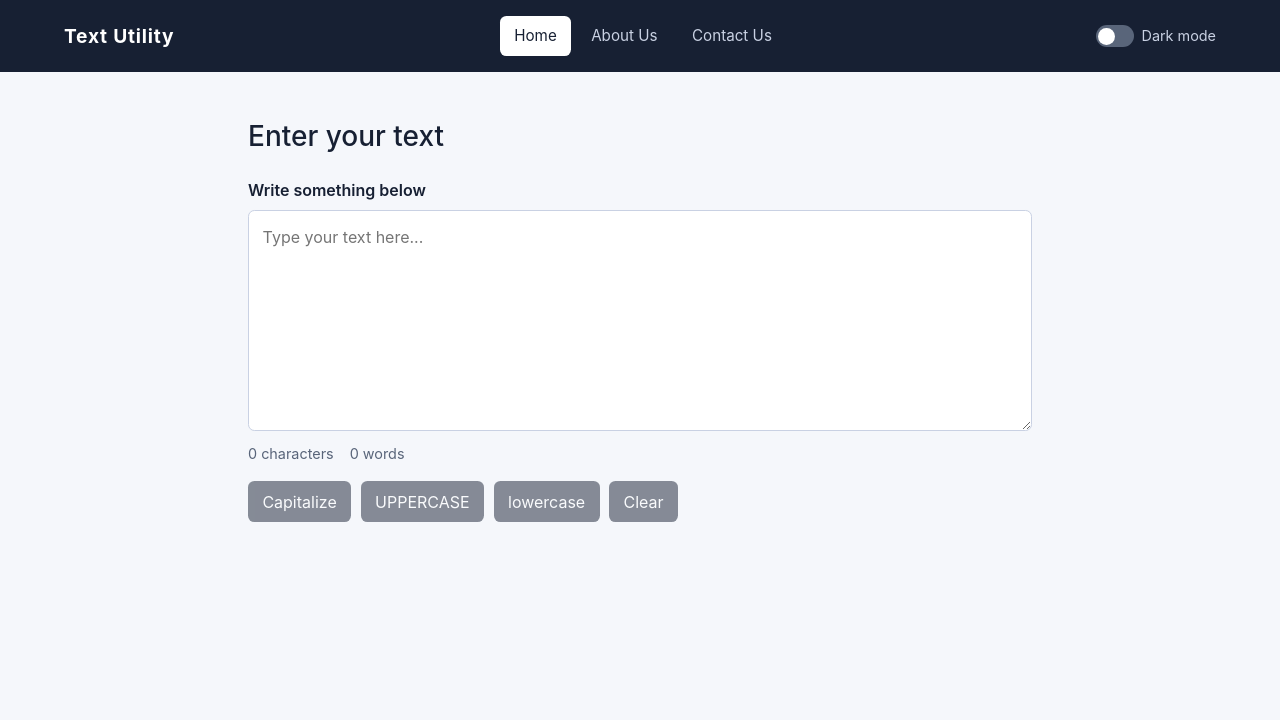
Scenario: provides case conversion, counts, and clear actions
In the text box: (640, 321) 248,210 -> 1032,431, type "Hello TWO words"
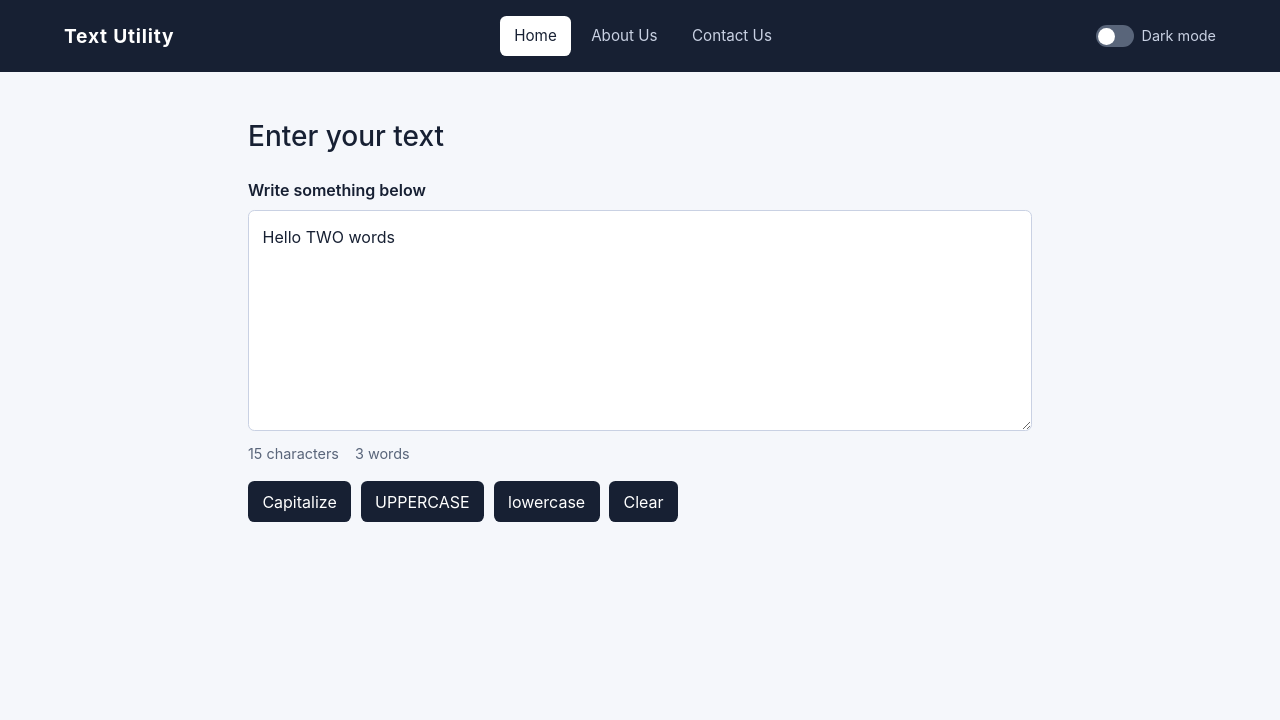
Now the text "15 characters" is shown, box 248,443 -> 339,465
Now the text "3 words" is shown, box 355,443 -> 410,465
Click the button "lowercase": (547, 502) 494,481 -> 600,522
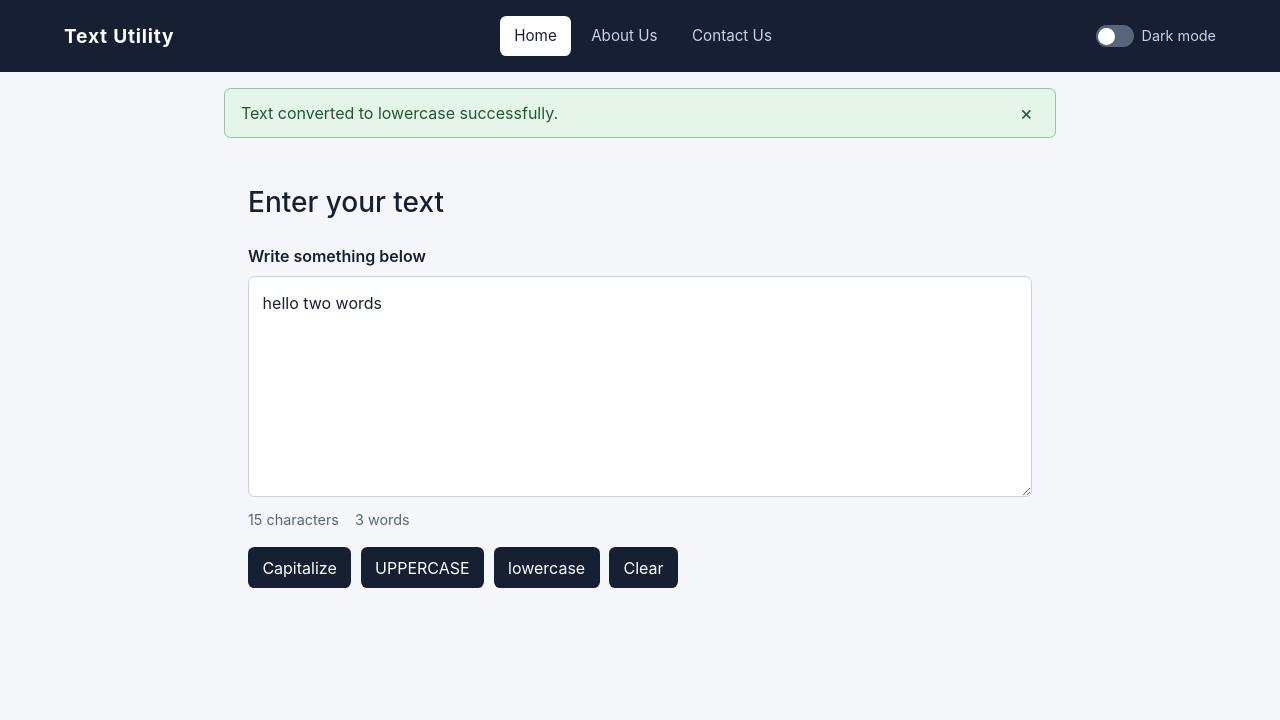
Click the button "UPPERCASE": (422, 568) 361,547 -> 484,588
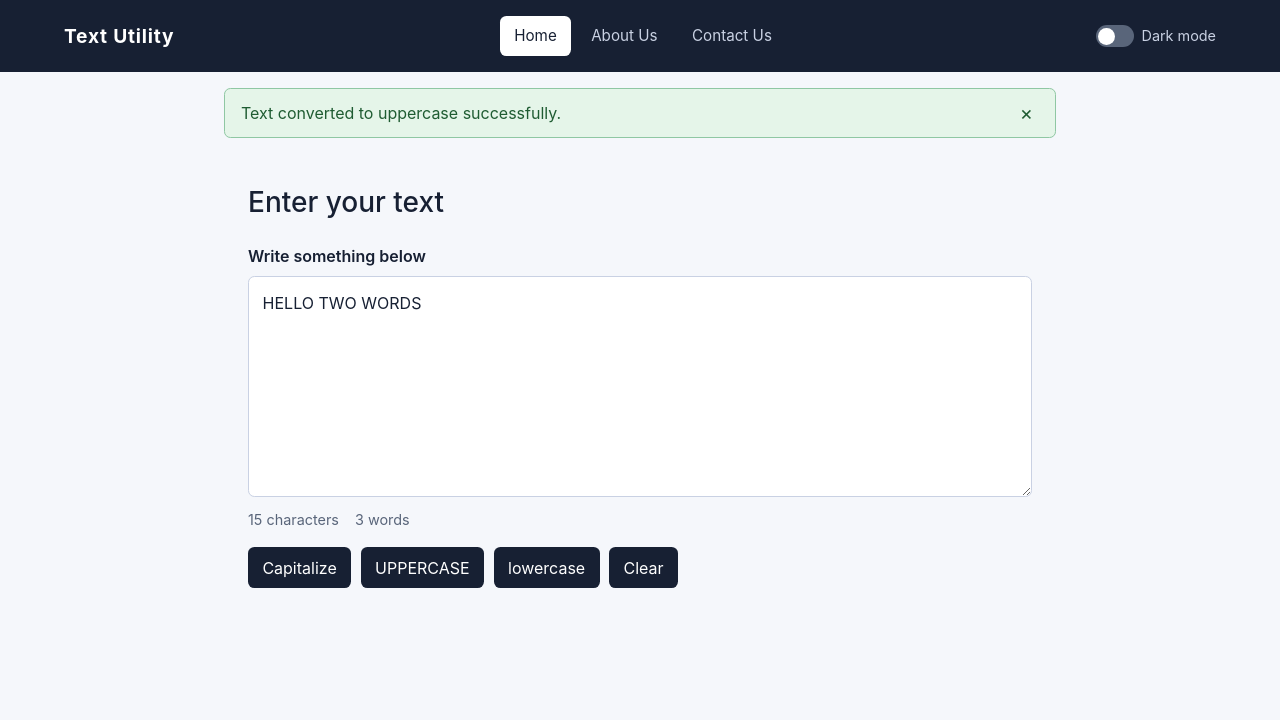
Click the button "Clear": (644, 568) 609,547 -> 678,588
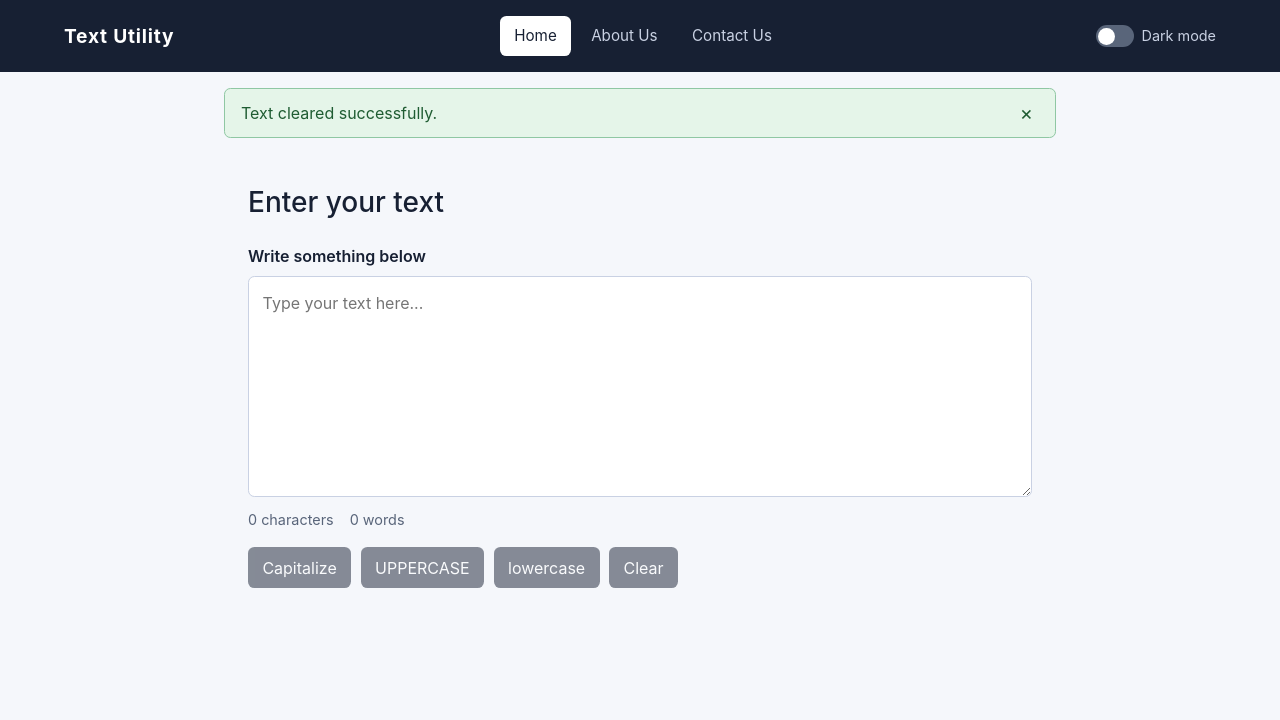
Now the text box is empty, box 248,276 -> 1032,497
